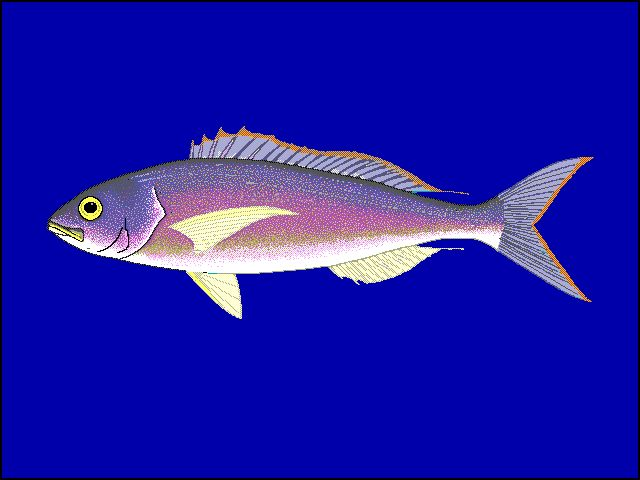fish: (46, 125, 594, 320)
